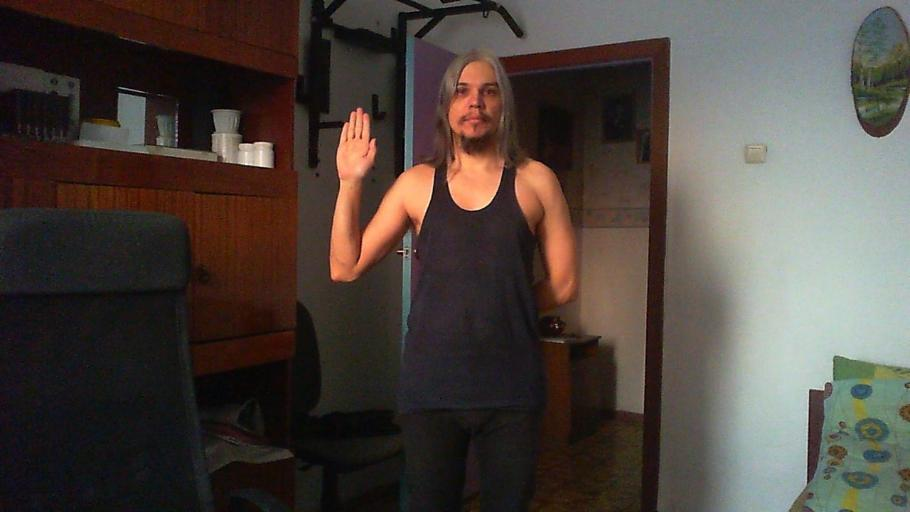stop: (333, 104, 378, 182)
